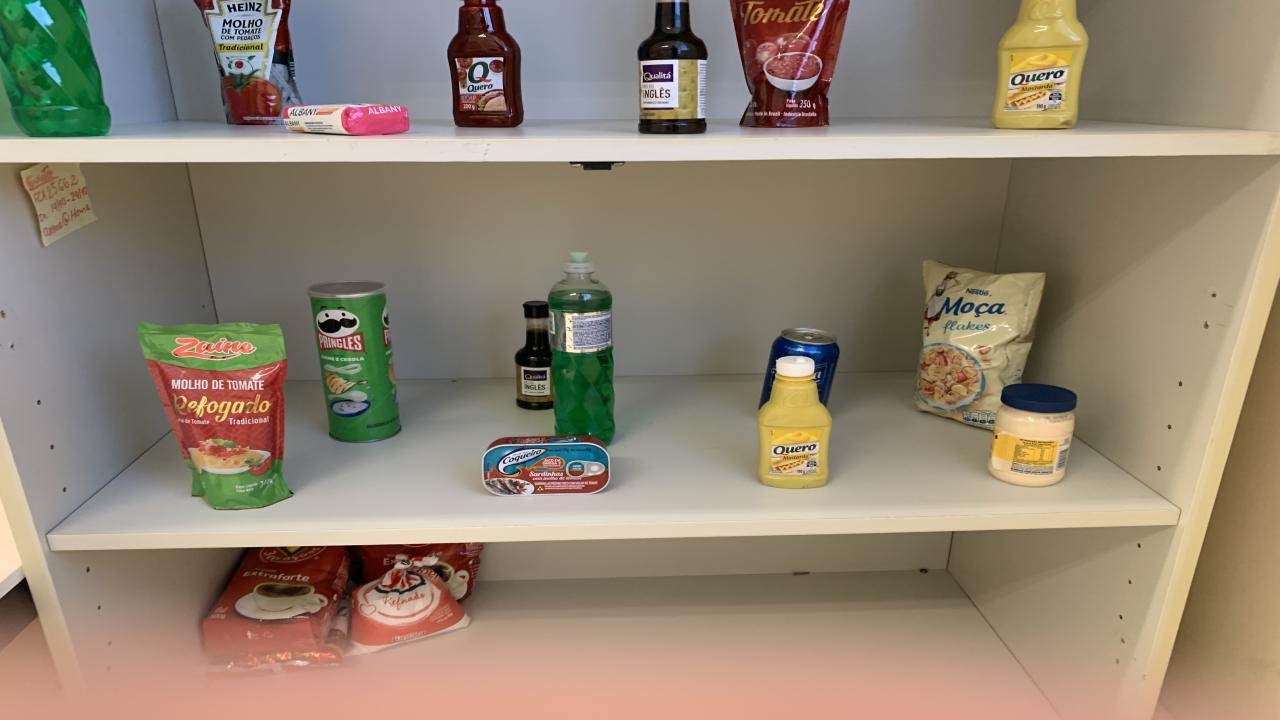Detergent-Cleanup_Items: (548, 253, 615, 442)
English_Sauce-Pantry_Items: (638, 0, 708, 62), (515, 302, 552, 411), (638, 118, 708, 133)
Flakes-Snacks: (915, 261, 1045, 429)
Ketchup-Pantry_Items: (448, 0, 522, 128)
Mayonnaise-Pantry_Items: (990, 382, 1078, 488)
Mustard-Pantry_Items: (992, 0, 1088, 129), (758, 356, 832, 488)
Pringles-Snacks: (310, 281, 400, 442)
Soap-Cleanup_Items: (282, 105, 410, 135)
Tomato_Sauce-Pantry_Items: (140, 322, 290, 510), (730, 0, 850, 128), (195, 0, 302, 126)
Tonic-Drinks: (760, 328, 840, 407)
Tuna_Can-Pantry_Items: (482, 437, 610, 495)
